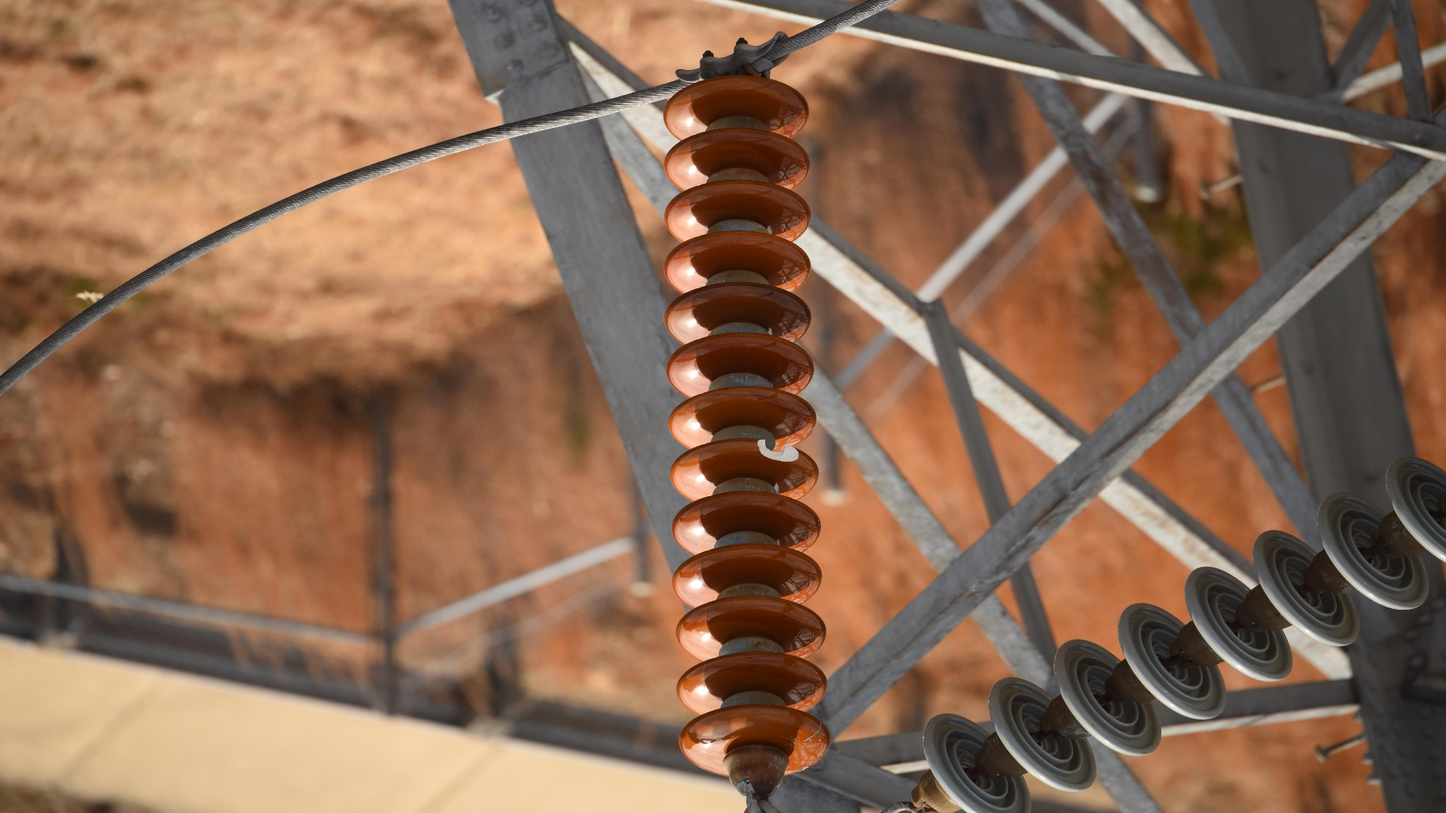insulator: (914, 449, 1446, 813), (658, 72, 839, 786)
insulator_breakage: (752, 435, 806, 467)
